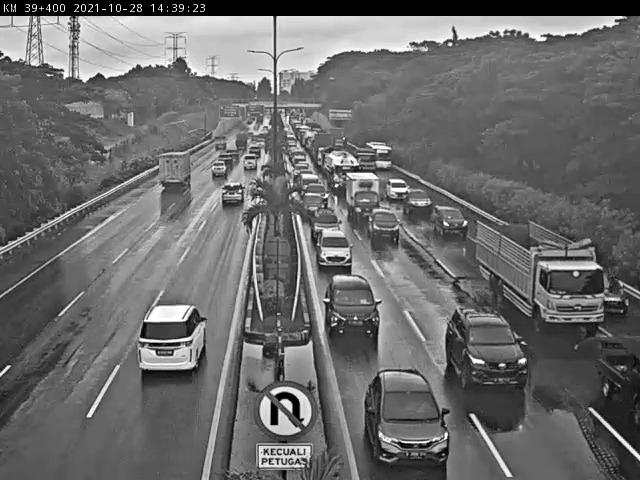car: (362, 369, 449, 464), (444, 306, 527, 387), (136, 307, 205, 372), (322, 276, 379, 336), (317, 229, 351, 264), (433, 203, 468, 236), (366, 206, 398, 237), (309, 205, 339, 235), (406, 190, 434, 213), (221, 182, 247, 205), (302, 183, 329, 203), (302, 193, 324, 216), (210, 159, 227, 178)
mid truck: (475, 219, 601, 326), (158, 153, 192, 192)
small truck: (596, 336, 640, 426), (344, 173, 378, 217)
